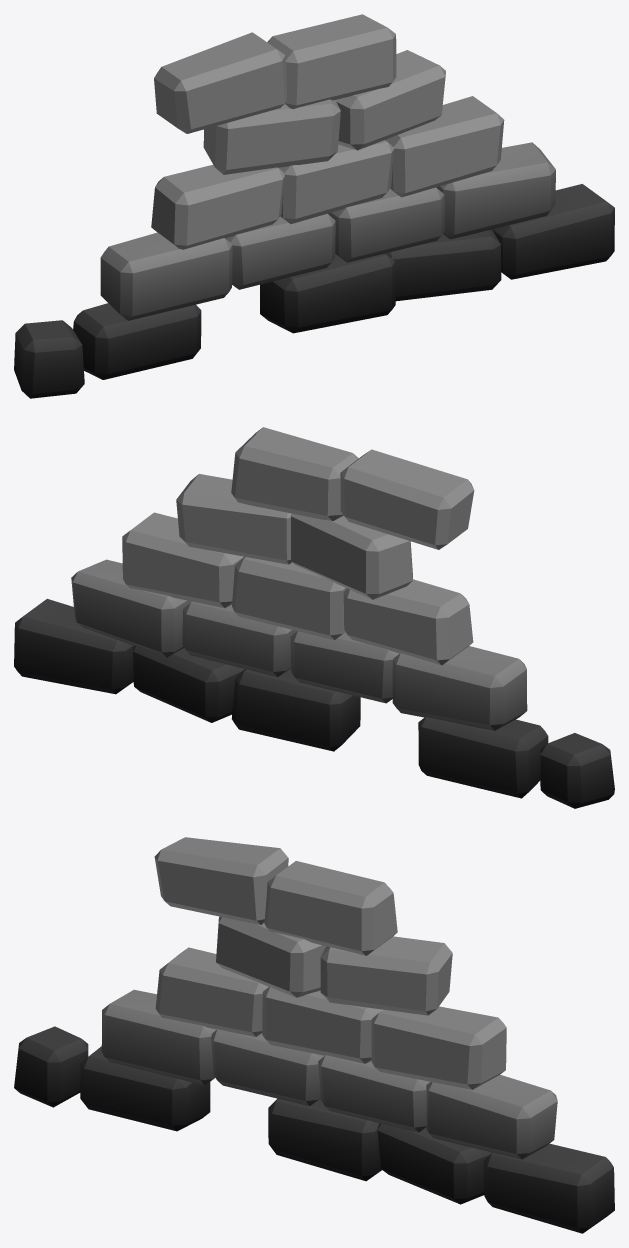
The model's file is BrickWall2x1_01_Solo_Broken.fbx.
3 renders of one model, top to bottom at view 1: azimuth 30°, elevation 25°; view 2: azimuth 150°, elevation 25°; view 3: azimuth 330°, elevation 25°, orthographic.
Visible parts, largest first — view 1: BrickWall2x1_01_Solo_Broken; view 2: BrickWall2x1_01_Solo_Broken; view 3: BrickWall2x1_01_Solo_Broken.
Part boxes in pixels (<box>): BrickWall2x1_01_Solo_Broken: <box>14,14,614,398</box>; BrickWall2x1_01_Solo_Broken: <box>14,427,614,808</box>; BrickWall2x1_01_Solo_Broken: <box>14,837,614,1233</box>.
Bounding box in the file's own units: 215 × 103 × 30.19.
